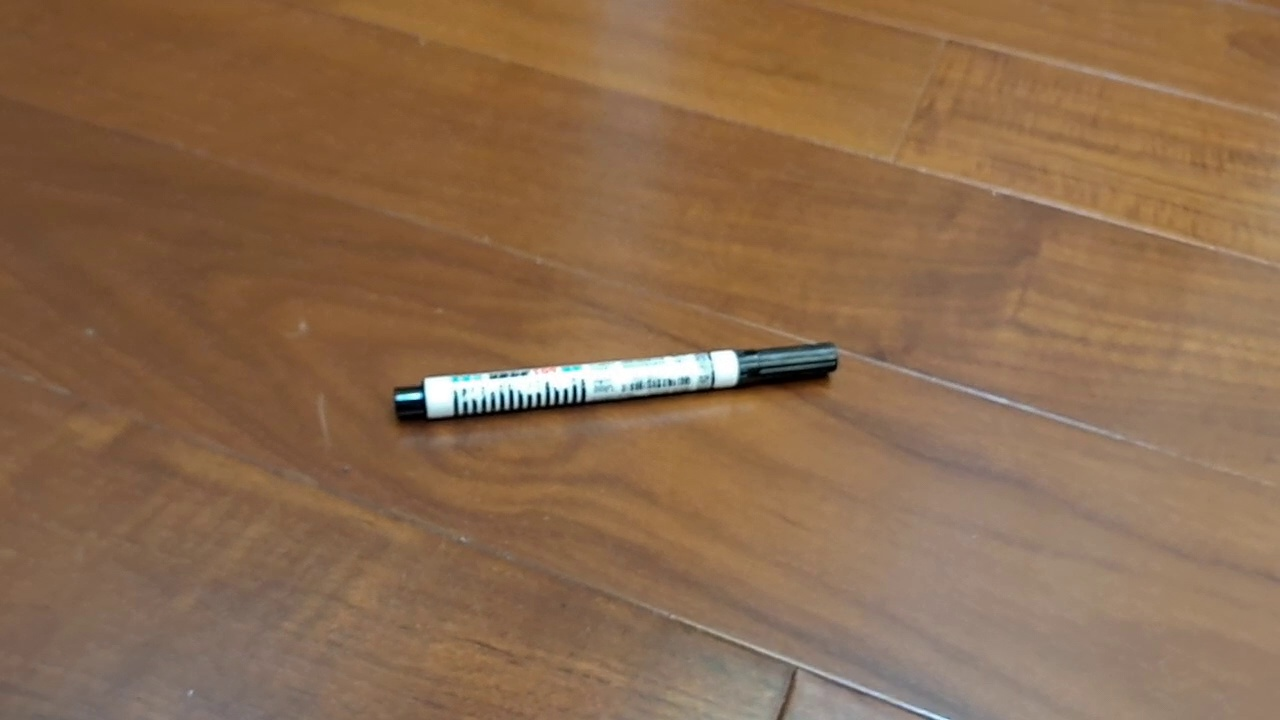pen: (393, 340, 840, 424)
